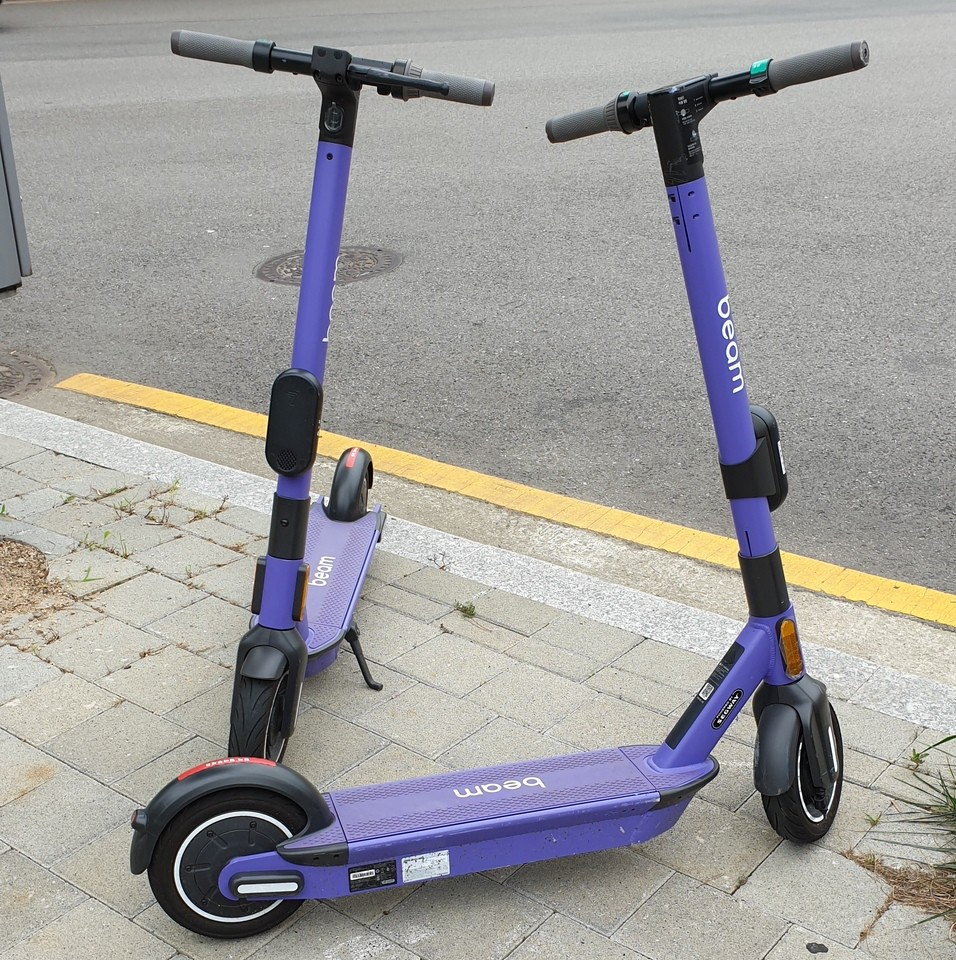scooter: (175, 35, 860, 913), (162, 21, 496, 752)
